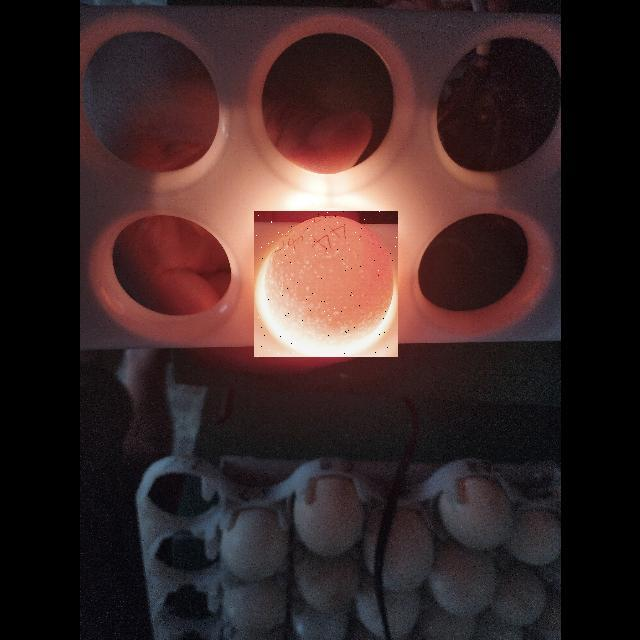Infertile: (254, 211, 398, 357)
